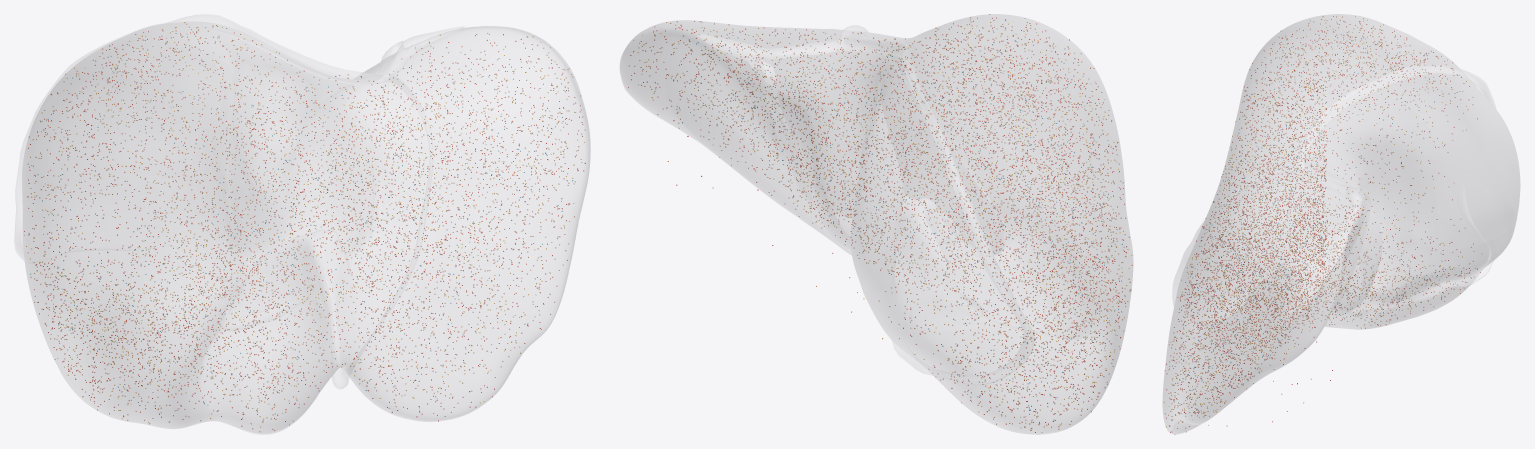
Rendered from 3d-vh-f-liver-UBERON_0002107-all-as-pan-human-azimuth-sphere-hra-pop.glb.
3 renders of one model, left to right at view 1: azimuth 30°, elevation 25°; view 2: azimuth 150°, elevation 25°; view 3: azimuth 270°, elevation 25°, orthographic. The views are drawn at different scales.
Visible parts, largest first — view 1: VH_F_capsule_of_the_liver, VH_F_left_anterolateral_segment, VH_F_left_superomedial_segment, VH_F_right_anteroinferior_segment, VH_F_right_posterosuperior_segment, VH_F_coronary_ligament_of_liver, VH_F_falciform_ligament, VH_F_right_posteroinferior_segment; view 2: VH_F_capsule_of_the_liver, VH_F_left_superomedial_segment, VH_F_bare_area_of_liver, VH_F_right_anterosuperior_segment, VH_F_coronary_ligament_of_liver, VH_F_right_anteroinferior_segment, VH_F_right_posteroinferior_segment, VH_F_ligamentum_venosum, VH_F_right_posterosuperior_segment, VH_F_triangular_ligament_of_liver; view 3: VH_F_capsule_of_the_liver, VH_F_right_posterosuperior_segment, VH_F_right_anterosuperior_segment, VH_F_bare_area_of_liver, VH_F_left_anterolateral_segment, VH_F_coronary_ligament_of_liver, VH_F_right_posteroinferior_segment, VH_F_left_superomedial_segment, VH_F_falciform_ligament, VH_F_caudate_lobe, VH_F_ligamentum_venosum, VH_F_left_superomedial_segment1.
Part boxes in pixels (<box>): VH_F_capsule_of_the_liver: <box>22,22,589,434</box>; VH_F_left_anterolateral_segment: <box>346,228,576,420</box>; VH_F_left_superomedial_segment: <box>389,27,589,224</box>; VH_F_right_anteroinferior_segment: <box>72,303,223,427</box>; VH_F_right_posterosuperior_segment: <box>22,28,147,220</box>; VH_F_coronary_ligament_of_liver: <box>15,14,409,259</box>; VH_F_falciform_ligament: <box>348,74,432,372</box>; VH_F_right_posteroinferior_segment: <box>23,234,56,363</box>; VH_F_capsule_of_the_liver: <box>620,14,1132,434</box>; VH_F_left_superomedial_segment: <box>621,21,841,141</box>; VH_F_bare_area_of_liver: <box>850,91,903,349</box>; VH_F_right_anterosuperior_segment: <box>957,14,1129,235</box>; VH_F_coronary_ligament_of_liver: <box>769,36,1034,384</box>; VH_F_right_anteroinferior_segment: <box>1062,251,1132,429</box>; VH_F_right_posteroinferior_segment: <box>869,303,1042,433</box>; VH_F_ligamentum_venosum: <box>751,56,816,212</box>; VH_F_right_posterosuperior_segment: <box>851,169,866,284</box>; VH_F_triangular_ligament_of_liver: <box>698,34,767,63</box>; VH_F_capsule_of_the_liver: <box>1163,14,1458,431</box>; VH_F_right_posterosuperior_segment: <box>1393,29,1519,213</box>; VH_F_right_anterosuperior_segment: <box>1249,14,1391,109</box>; VH_F_bare_area_of_liver: <box>1346,92,1519,263</box>; VH_F_left_anterolateral_segment: <box>1163,303,1249,432</box>; VH_F_coronary_ligament_of_liver: <box>1299,65,1495,311</box>; VH_F_right_posteroinferior_segment: <box>1416,225,1514,316</box>; VH_F_left_superomedial_segment: <box>1258,204,1364,378</box>; VH_F_falciform_ligament: <box>1173,163,1298,304</box>; VH_F_caudate_lobe: <box>1340,207,1381,305</box>; VH_F_ligamentum_venosum: <box>1333,190,1370,308</box>; VH_F_left_superomedial_segment1: <box>1207,111,1238,215</box>.
Size of the model in its own units: 0.2471 by 0.17 by 0.1663.
